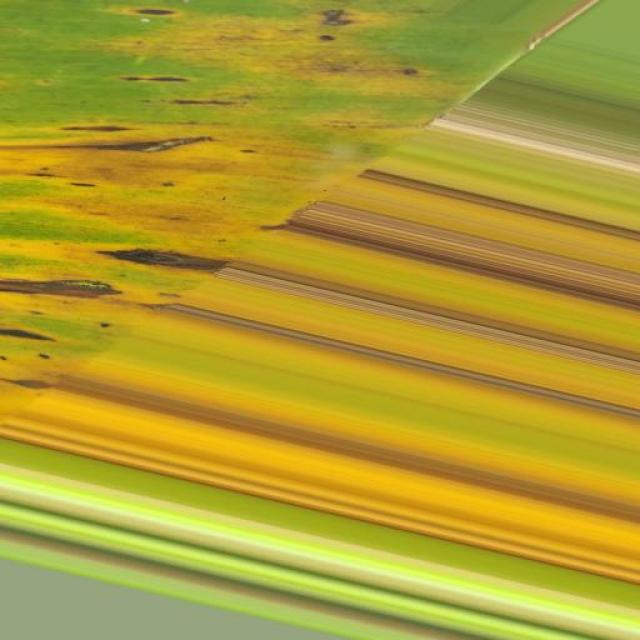Early_rust: (0, 0, 473, 398)
